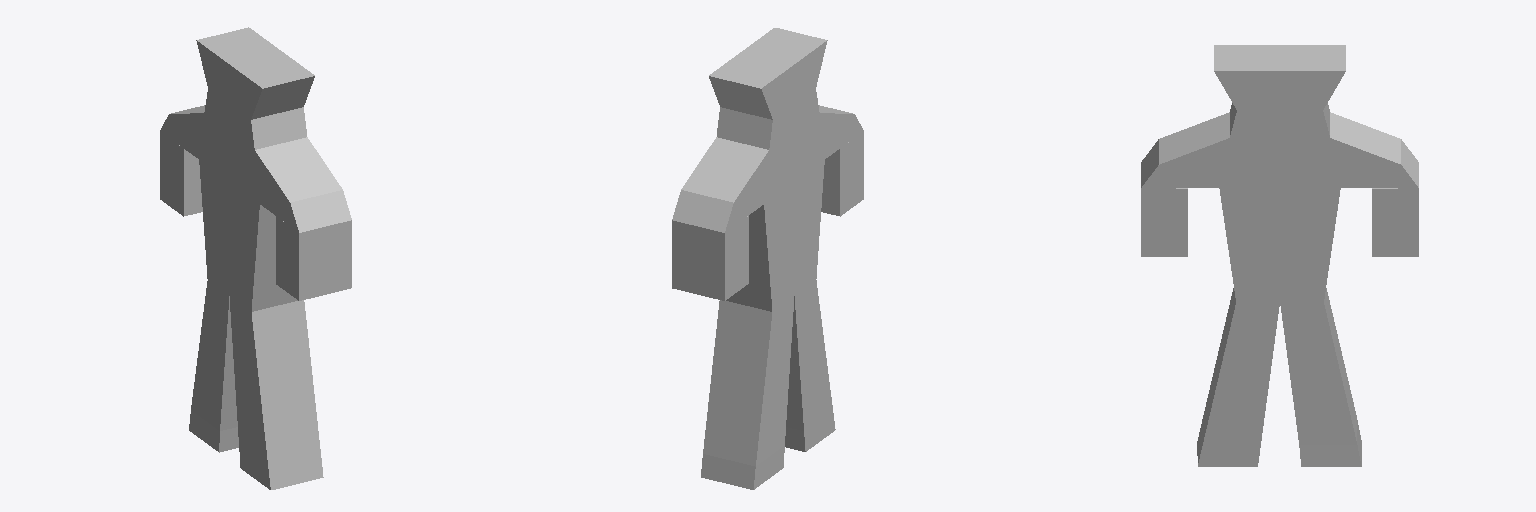
Rendered from man5.obj.
3 views of the same model, side by side, from view 1: azimuth 30°, elevation 25°; view 2: azimuth 150°, elevation 25°; view 3: azimuth 270°, elevation 25° (orthographic).
Parts seen in each view (by area): view 1: Cube; view 2: Cube; view 3: Cube.
Boxes of the visible parts, <box> form: Cube: <box>160,27,351,489</box>; Cube: <box>672,28,863,489</box>; Cube: <box>1141,45,1418,466</box>.
Size of the model in its own units: 1.01 by 7.23 by 4.61.